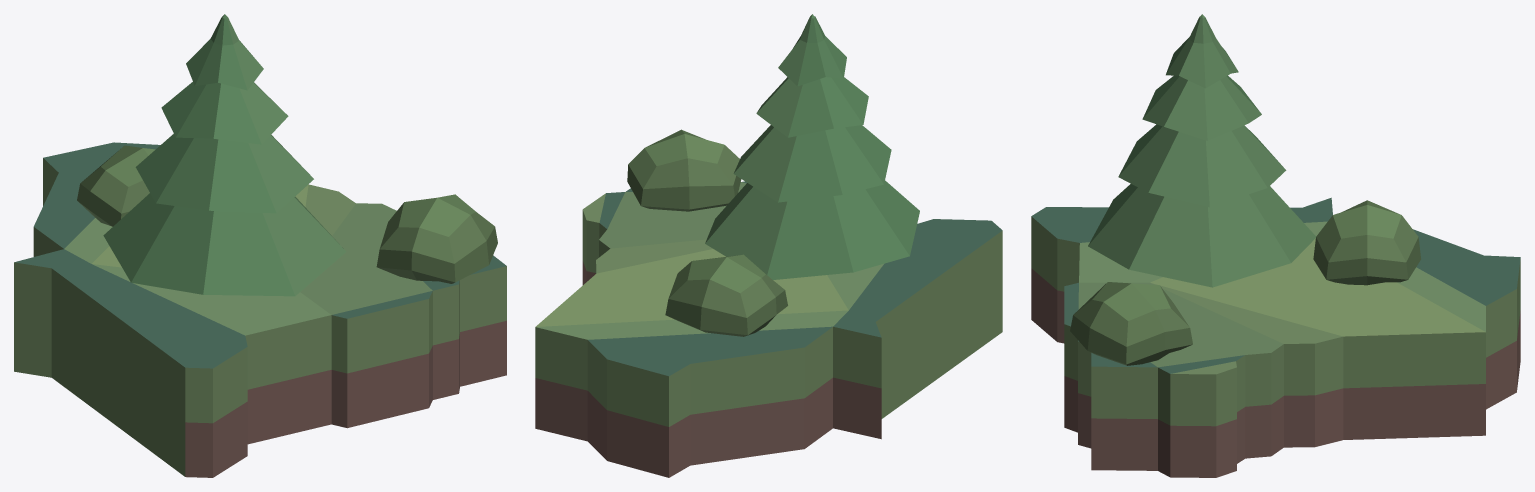
File: namsi.gltf
3 views of the same model, side by side, from view 1: azimuth 30°, elevation 25°; view 2: azimuth 150°, elevation 25°; view 3: azimuth 270°, elevation 25° (orthographic). The views are drawn at different scales.
Visible parts, largest first — view 1: намцы; view 2: намцы; view 3: намцы.
Part boxes in pixels (<box>): намцы: <box>14,14,506,477</box>; намцы: <box>535,14,1002,477</box>; намцы: <box>1031,14,1520,477</box>.
Bounding box in the file's own units: 0.5719 × 0.5325 × 0.669.
